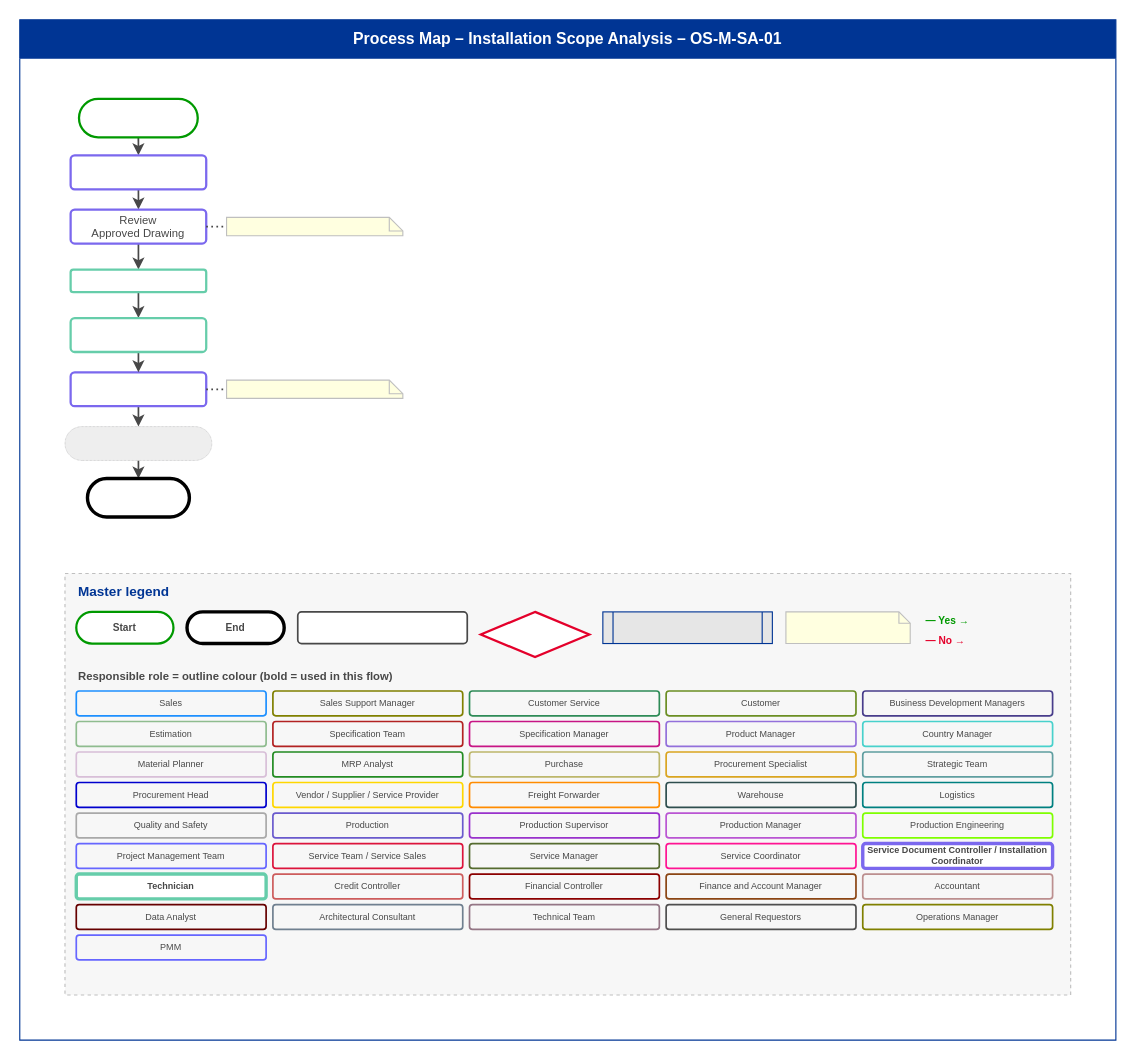
This 1136x1060 diagram has some shape labels left out. The box of each missing label's shape, as (x1, y1, x2, y2) in pixels:
Activity (outline = role): (296, 611, 468, 644)
Analyze & Create the Job Scope: (69, 371, 207, 407)
Decision: (479, 610, 590, 658)
Installation: (85, 476, 191, 518)
KSA: Installation Supervisor: (225, 216, 403, 236)
KSA: Service Sales Team: (225, 379, 403, 398)
Linked process (Ref ID): (602, 611, 772, 644)
Note / checklist: (785, 611, 910, 644)
Receive SO with Installation Scope: (69, 154, 207, 190)
Scope Analysis: (77, 97, 198, 138)
Share Site Readiness Report with Coordinator: (69, 316, 207, 353)
Site Inspection: (69, 268, 207, 293)
Subcontracting Ref S#: PP-M-VA-01: (64, 426, 211, 460)
